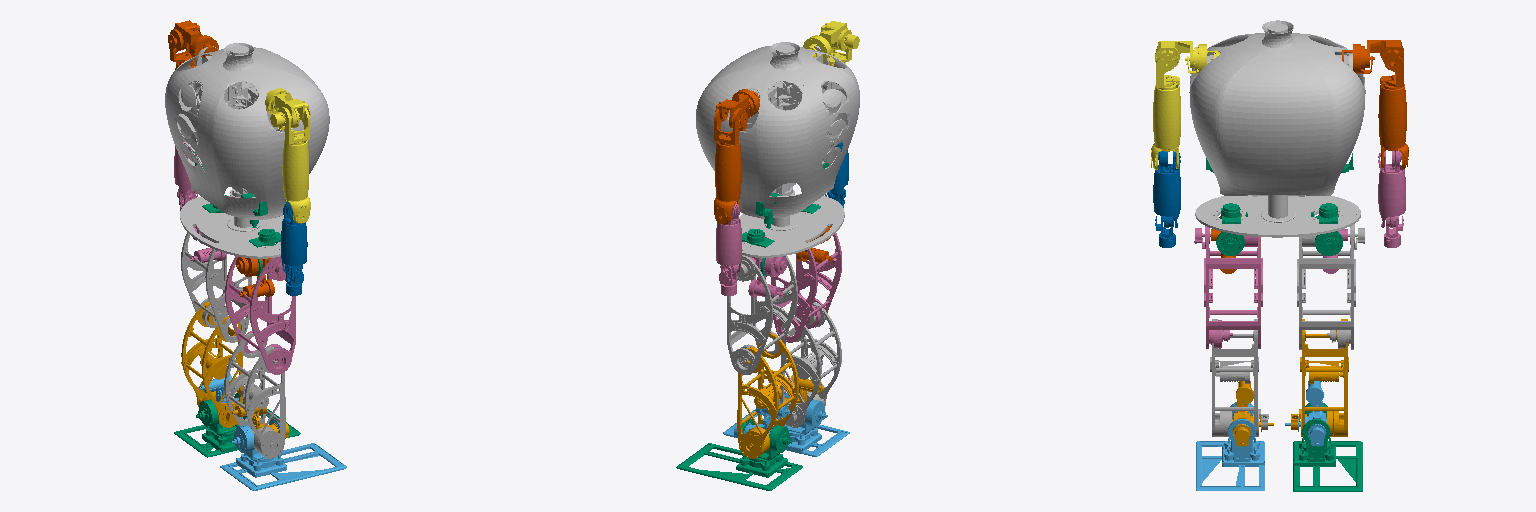
URDF robot description (teo):
<?xml version="1.0" ?>
<!-- =================================================================================== -->
<!-- |    This document was autogenerated by xacro from teo_humanoid_complete_vis.urdf.xacro | -->
<!-- |    EDITING THIS FILE BY HAND IS NOT RECOMMENDED                                 | -->
<!-- =================================================================================== -->
<robot name="teo" xmlns:xacro="http://ros.org/wiki/xacro">
  <!--
  ROS urdf definition of TEO humanoid robot
  
  Author: [author]
  RoboticsLab, University Carlos III de Madrid
  
  This file loads TEO model with a basic visualization.

  If you want to convert this xacro file into an urdf file:
  $ rosrun xacro xacro.py teo_humanoid.urdf.xacro > teo_humanoid.urdf
-->
  <link name="base_link"/>
  <link name="torso">
    <!--<inertial>
      <origin xyz="0 0 0" rpy="0 0 0"/>
      <mass value="1.0"/>
      <inertia ixx="0.001"  ixy="0.001"  ixzv"0" iyy="0.001" iyz="0.001" izz="0.001" />
    </inertial> -->
    <visual>
      <!-- one box -->
      <!--origin xyz="0 0 0.1" rpy="0 0 0"/-->
      <origin rpy="0 0 0" xyz="0 0 0.03"/>
      <geometry>
        <!--box size="0.1 0.45 0.292"/-->
        <mesh filename="package://teo_description/meshes/torso/chest_reduced2.dae"/>
      </geometry>
      <material name="LightGrey"/>
    </visual>
  </link>
  <link name="waist">
    <!--<inertial>
      <origin xyz="0 0 0" rpy="0 0 0"/>
      <mass value="1.0"/>
      <inertia ixx="0.001"  ixy="0.001"  ixzv"0" iyy="0.001" iyz="0.001" izz="0.001" />
    </inertial> -->
    <visual>
      <geometry>
        <mesh filename="package://teo_description/meshes/legs/r_axialhip.dae"/>
      </geometry>
      <material name="grey"/>
      <origin rpy="0 0 0" xyz="0 -0.146 0"/>
    </visual>
    <visual>
      <geometry>
        <mesh filename="package://teo_description/meshes/legs/l_axialhip.dae"/>
      </geometry>
      <material name="grey"/>
      <origin rpy="0 0 0" xyz="0 0.146 0"/>
    </visual>
  </link>
  <link name="waist_yaw_link">
    <!--<inertial>
      <origin xyz="0 0 0" rpy="0 0 0"/>
      <mass value="1.0"/>
      <inertia ixx="0.001"  ixy="0.001"  ixzv"0" iyy="0.001" iyz="0.001" izz="0.001" />
    </inertial> -->
    <visual>
      <origin rpy="0 0 0" xyz="0 0 0.025"/>
      <geometry>
        <!--sphere radius="1.0"/-->
        <cylinder length="0.06" radius="0.02"/>
      </geometry>
      <material name="LightGrey"/>
    </visual>
  </link>
  <link name="waist_pitch_link">
    <!--<inertial>
      <origin xyz="0 0 0" rpy="0 0 0"/>
      <mass value="1.0"/>
      <inertia ixx="0.001"  ixy="0.001"  ixzv"0" iyy="0.001" iyz="0.001" izz="0.001" />
    </inertial> -->
    <visual>
      <origin rpy="1.57079632679 0 0" xyz="0 0 0"/>
      <geometry>
        <!--sphere radius="1.0"/-->
        <cylinder length="0.06" radius="0.02"/>
      </geometry>
      <material name="LightGrey"/>
    </visual>
  </link>
  <link name="l_hip_yaw_link">
    <!--inertial>
        <origin xyz="0.0 ${reflect*0.0} 0.0" rpy="0 0 0"/>
        <mass value="1.0"/>
        <inertia ixx="0.001"  ixy="0.001"  ixzv"0" iyy="0.001" iyz="0.001" izz="0.001" />
      </inertial-->
  </link>
  <link name="l_hip_roll_link">
    <!--inertial>
        <origin xyz="0.0 ${reflect*0.0} 0.0" rpy="0 0 0"/>
        <mass value="1.0"/>
        <inertia ixx="0.001"  ixy="0.001"  ixzv"0" iyy="0.001" iyz="0.001" izz="0.001" />
      </inertial-->
    <visual>
      <geometry>
        <mesh filename="package://teo_description/meshes/legs/l_hip.dae"/>
      </geometry>
      <material name="grey"/>
      <origin rpy="0 0 0" xyz="0 0 0"/>
    </visual>
  </link>
  <link name="l_hip_pitch_link">
    <!--inertial>
        <origin xyz="0.0 ${reflect*0.0} 0.0" rpy="0 0 0"/>
        <mass value="1.0"/>
        <inertia ixx="0.001"  ixy="0.001"  ixzv"0" iyy="0.001" iyz="0.001" izz="0.001" />
      </inertial-->
    <visual>
      <geometry>
        <mesh filename="package://teo_description/meshes/legs/l_thigh.dae"/>
      </geometry>
      <material name="grey"/>
      <origin rpy="0 0 0" xyz="0.013 0 -0.33"/>
    </visual>
  </link>
  <link name="l_knee_pitch_link">
    <!--inertial>
        <origin xyz="0.0 ${reflect*0.0} 0.0" rpy="0 0 0"/>
        <mass value="1.0"/>
        <inertia ixx="0.001"  ixy="0.001"  ixzv"0" iyy="0.001" iyz="0.001" izz="0.001" />
      </inertial-->
    <visual>
      <geometry>
        <mesh filename="package://teo_description/meshes/legs/l_tibia.dae"/>
      </geometry>
      <material name="grey"/>
      <origin rpy="0 0 0" xyz="-0.013 -0.033 -0.3"/>
    </visual>
  </link>
  <link name="l_ankle_pitch_link">
    <!--inertial>
        <origin xyz="0.0 ${reflect*0.0} 0.0" rpy="0 0 0"/>
        <mass value="1.0"/>
        <inertia ixx="0.001"  ixy="0.001"  ixzv"0" iyy="0.001" iyz="0.001" izz="0.001" />
      </inertial-->
    <visual>
      <geometry>
        <mesh filename="package://teo_description/meshes/legs/l_ankle.dae"/>
      </geometry>
      <material name="grey"/>
      <origin rpy="0 0 0" xyz="0 0 0"/>
    </visual>
  </link>
  <link name="l_ankle_roll_link">
    <!--inertial>
        <origin xyz="0.0 ${reflect*0.0} 0.0" rpy="0 0 0"/>
        <mass value="1.0"/>
        <inertia ixx="0.001"  ixy="0.001"  ixzv"0" iyy="0.001" iyz="0.001" izz="0.001" />
      </inertial-->
    <visual>
      <geometry>
        <mesh filename="package://teo_description/meshes/legs/l_foot.dae"/>
      </geometry>
      <material name="grey"/>
      <origin rpy="0 0 0" xyz="0 0 0"/>
    </visual>
  </link>
  <link name="l_sole">
    <!--inertial>
        <origin xyz="0.0 ${reflect*0.0} 0.0" rpy="0 0 0"/>
        <mass value="1.0"/>
        <inertia ixx="0.001"  ixy="0.001"  ixzv"0" iyy="0.001" iyz="0.001" izz="0.001" />
      </inertial-->
  </link>
  <link name="r_hip_yaw_link">
    <!--inertial>
        <origin xyz="0.0 ${reflect*0.0} 0.0" rpy="0 0 0"/>
        <mass value="1.0"/>
        <inertia ixx="0.001"  ixy="0.001"  ixzv"0" iyy="0.001" iyz="0.001" izz="0.001" />
      </inertial-->
  </link>
  <link name="r_hip_roll_link">
    <!--inertial>
        <origin xyz="0.0 ${reflect*0.0} 0.0" rpy="0 0 0"/>
        <mass value="1.0"/>
        <inertia ixx="0.001"  ixy="0.001"  ixzv"0" iyy="0.001" iyz="0.001" izz="0.001" />
      </inertial-->
    <visual>
      <geometry>
        <mesh filename="package://teo_description/meshes/legs/r_hip.dae"/>
      </geometry>
      <material name="grey"/>
      <origin rpy="0 0 0" xyz="0 0 0"/>
    </visual>
  </link>
  <link name="r_hip_pitch_link">
    <!--inertial>
        <origin xyz="0.0 ${reflect*0.0} 0.0" rpy="0 0 0"/>
        <mass value="1.0"/>
        <inertia ixx="0.001"  ixy="0.001"  ixzv"0" iyy="0.001" iyz="0.001" izz="0.001" />
      </inertial-->
    <visual>
      <geometry>
        <mesh filename="package://teo_description/meshes/legs/r_thigh.dae"/>
      </geometry>
      <material name="grey"/>
      <origin rpy="0 0 0" xyz="0.013 0 -0.33"/>
    </visual>
  </link>
  <link name="r_knee_pitch_link">
    <!--inertial>
        <origin xyz="0.0 ${reflect*0.0} 0.0" rpy="0 0 0"/>
        <mass value="1.0"/>
        <inertia ixx="0.001"  ixy="0.001"  ixzv"0" iyy="0.001" iyz="0.001" izz="0.001" />
      </inertial-->
    <visual>
      <geometry>
        <mesh filename="package://teo_description/meshes/legs/r_tibia.dae"/>
      </geometry>
      <material name="grey"/>
      <origin rpy="0 0 0" xyz="-0.013 0.033 -0.3"/>
    </visual>
  </link>
  <link name="r_ankle_pitch_link">
    <!--inertial>
        <origin xyz="0.0 ${reflect*0.0} 0.0" rpy="0 0 0"/>
        <mass value="1.0"/>
        <inertia ixx="0.001"  ixy="0.001"  ixzv"0" iyy="0.001" iyz="0.001" izz="0.001" />
      </inertial-->
    <visual>
      <geometry>
        <mesh filename="package://teo_description/meshes/legs/r_ankle.dae"/>
      </geometry>
      <material name="grey"/>
      <origin rpy="0 0 0" xyz="0 0 0"/>
    </visual>
  </link>
  <link name="r_ankle_roll_link">
    <!--inertial>
        <origin xyz="0.0 ${reflect*0.0} 0.0" rpy="0 0 0"/>
        <mass value="1.0"/>
        <inertia ixx="0.001"  ixy="0.001"  ixzv"0" iyy="0.001" iyz="0.001" izz="0.001" />
      </inertial-->
    <visual>
      <geometry>
        <mesh filename="package://teo_description/meshes/legs/r_foot.dae"/>
      </geometry>
      <material name="grey"/>
      <origin rpy="0 0 0" xyz="0 0 0"/>
    </visual>
  </link>
  <link name="r_sole">
    <!--inertial>
        <origin xyz="0.0 ${reflect*0.0} 0.0" rpy="0 0 0"/>
        <mass value="1.0"/>
        <inertia ixx="0.001"  ixy="0.001"  ixzv"0" iyy="0.001" iyz="0.001" izz="0.001" />
      </inertial-->
  </link>
  <link name="l_shoulder_pitch_link">
    <!--inertial>
        <origin xyz="0.0 ${reflect*0.0} 0.0" rpy="0 0 0"/>
        <mass value="1.0"/>
        <inertia ixx="0.001"  ixy="0.001"  ixzv"0" iyy="0.001" iyz="0.001" izz="0.001" />
      </inertial-->
  </link>
  <link name="l_shoulder_roll_link">
    <!--inertial>
        <origin xyz="0.0 ${reflect*0.0} 0.0" rpy="0 0 0"/>
        <mass value="1.0"/>
        <inertia ixx="0.001"  ixy="0.001"  ixzv"0" iyy="0.001" iyz="0.001" izz="0.001" />
      </inertial-->
  </link>
  <link name="l_shoulder_yaw_link">
    <!--inertial>
        <origin xyz="0.0 ${reflect*0.0} 0.0" rpy="0 0 0"/>
        <mass value="1.0"/>
        <inertia ixx="0.001"  ixy="0.001"  ixzv"0" iyy="0.001" iyz="0.001" izz="0.001" />
      </inertial-->
    <visual>
      <geometry>
        <!--box size="0.08 0.08 ${arm_link2}"/-->
        <!--mesh filename="package://teo_description/meshes/legs/${side}_foot.dae"/-->
        <mesh filename="package://teo_description/meshes/arms/l_arm.dae"/>
      </geometry>
      <material name="grey"/>
      <!--origin rpy="0 0 0" xyz="0 0 -${arm_link2/2}"/-->
      <origin rpy="0 0 0" xyz="0 0 -0.1235"/>
    </visual>
  </link>
  <link name="l_elbow_pitch_link">
    <!--inertial>
        <origin xyz="0.0 ${reflect*0.0} 0.0" rpy="0 0 0"/>
        <mass value="1.0"/>
        <inertia ixx="0.001"  ixy="0.001"  ixzv"0" iyy="0.001" iyz="0.001" izz="0.001" />
      </inertial-->
    <visual>
      <geometry>
        <!--box size="0.06 0.06 ${arm_link3}"/-->
        <mesh filename="package://teo_description/meshes/arms/l_forearm.dae"/>
      </geometry>
      <material name="grey"/>
      <origin rpy="0 0 0" xyz="0 0 -0.105"/>
    </visual>
  </link>
  <link name="l_wrist_yaw_link">
    <!--inertial>
        <origin xyz="0.0 ${reflect*0.0} 0.0" rpy="0 0 0"/>
        <mass value="1.0"/>
        <inertia ixx="0.001"  ixy="0.001"  ixzv"0" iyy="0.001" iyz="0.001" izz="0.001" />
      </inertial-->
  </link>
  <link name="l_wrist_pitch_link">
    <!--inertial>
        <origin xyz="0.0 ${reflect*0.0} 0.0" rpy="0 0 0"/>
        <mass value="1.0"/>
        <inertia ixx="0.001"  ixy="0.001"  ixzv"0" iyy="0.001" iyz="0.001" izz="0.001" />
      </inertial-->
  </link>
  <link name="r_shoulder_pitch_link">
    <!--inertial>
        <origin xyz="0.0 ${reflect*0.0} 0.0" rpy="0 0 0"/>
        <mass value="1.0"/>
        <inertia ixx="0.001"  ixy="0.001"  ixzv"0" iyy="0.001" iyz="0.001" izz="0.001" />
      </inertial-->
  </link>
  <link name="r_shoulder_roll_link">
    <!--inertial>
        <origin xyz="0.0 ${reflect*0.0} 0.0" rpy="0 0 0"/>
        <mass value="1.0"/>
        <inertia ixx="0.001"  ixy="0.001"  ixzv"0" iyy="0.001" iyz="0.001" izz="0.001" />
      </inertial-->
  </link>
  <link name="r_shoulder_yaw_link">
    <!--inertial>
        <origin xyz="0.0 ${reflect*0.0} 0.0" rpy="0 0 0"/>
        <mass value="1.0"/>
        <inertia ixx="0.001"  ixy="0.001"  ixzv"0" iyy="0.001" iyz="0.001" izz="0.001" />
      </inertial-->
    <visual>
      <geometry>
        <!--box size="0.08 0.08 ${arm_link2}"/-->
        <!--mesh filename="package://teo_description/meshes/legs/${side}_foot.dae"/-->
        <mesh filename="package://teo_description/meshes/arms/r_arm.dae"/>
      </geometry>
      <material name="grey"/>
      <!--origin rpy="0 0 0" xyz="0 0 -${arm_link2/2}"/-->
      <origin rpy="0 0 0" xyz="0 0 -0.1235"/>
    </visual>
  </link>
  <link name="r_elbow_pitch_link">
    <!--inertial>
        <origin xyz="0.0 ${reflect*0.0} 0.0" rpy="0 0 0"/>
        <mass value="1.0"/>
        <inertia ixx="0.001"  ixy="0.001"  ixzv"0" iyy="0.001" iyz="0.001" izz="0.001" />
      </inertial-->
    <visual>
      <geometry>
        <!--box size="0.06 0.06 ${arm_link3}"/-->
        <mesh filename="package://teo_description/meshes/arms/r_forearm.dae"/>
      </geometry>
      <material name="grey"/>
      <origin rpy="0 0 0" xyz="0 0 -0.105"/>
    </visual>
  </link>
  <link name="r_wrist_yaw_link">
    <!--inertial>
        <origin xyz="0.0 ${reflect*0.0} 0.0" rpy="0 0 0"/>
        <mass value="1.0"/>
        <inertia ixx="0.001"  ixy="0.001"  ixzv"0" iyy="0.001" iyz="0.001" izz="0.001" />
      </inertial-->
  </link>
  <link name="r_wrist_pitch_link">
    <!--inertial>
        <origin xyz="0.0 ${reflect*0.0} 0.0" rpy="0 0 0"/>
        <mass value="1.0"/>
        <inertia ixx="0.001"  ixy="0.001"  ixzv"0" iyy="0.001" iyz="0.001" izz="0.001" />
      </inertial-->
  </link>
  <joint name="waist_yaw" type="revolute">
    <parent link="waist"/>
    <child link="waist_yaw_link"/>
    <origin rpy="0 0 0" xyz="0.0 0 0.287"/>
    <axis xyz="0 0 1"/>
    <limit effort="30.0" lower="-1.57079632679" upper="1.57079632679" velocity="3.0"/>
  </joint>
  <joint name="waist_pitch" type="revolute">
    <parent link="waist_yaw_link"/>
    <child link="waist_pitch_link"/>
    <origin rpy="0 0 0" xyz="-0.0 0 0"/>
    <axis xyz="0 1 0"/>
    <limit effort="30.0" lower="0.0" upper="0.785398163397" velocity="3.0"/>
  </joint>
  <joint name="torso_joint" type="fixed">
    <parent link="waist_pitch_link"/>
    <child link="torso"/>
    <origin rpy="0 0 0" xyz="0 0 0.06"/>
  </joint>
  <joint name="l_hip_yaw" type="revolute">
    <parent link="waist"/>
    <child link="l_hip_yaw_link"/>
    <origin rpy="0 0 0" xyz="0 0.146 0"/>
    <!--y=Leg_link1-->
    <axis xyz="0 0 1"/>
    <limit effort="30.0" lower="-0.52359878756" upper="0.418879020479" velocity="3.0"/>
  </joint>
  <joint name="l_hip_roll" type="revolute">
    <parent link="l_hip_yaw_link"/>
    <child link="l_hip_roll_link"/>
    <origin rpy="0 0 0" xyz="0 0 0"/>
    <axis xyz="1 0 0"/>
    <limit effort="30.0" lower="-2.09439510239" upper="0.785398163397" velocity="3.0"/>
  </joint>
  <joint name="l_hip_pitch" type="revolute">
    <parent link="l_hip_roll_link"/>
    <child link="l_hip_pitch_link"/>
    <origin rpy="0 0 0" xyz="0 0 0"/>
    <axis xyz="0 1 0"/>
    <limit effort="30.0" lower="-0.698131700798" upper="0.523598775598" velocity="3.0"/>
  </joint>
  <joint name="l_knee_pitch" type="revolute">
    <parent link="l_hip_pitch_link"/>
    <child link="l_knee_pitch_link"/>
    <origin rpy="0 0 0" xyz="0 0 -0.33"/>
    <axis xyz="0 1 0"/>
    <limit effort="30.0" lower="0.0" upper="1.57079632679" velocity="3.0"/>
  </joint>
  <joint name="l_ankle_pitch" type="revolute">
    <parent link="l_knee_pitch_link"/>
    <child link="l_ankle_pitch_link"/>
    <origin rpy="0 0 0" xyz="0 -0.033 -0.3"/>
    <axis xyz="0 1 0"/>
    <limit effort="30.0" lower="-1.4835298642" upper="1.4835298642" velocity="3.0"/>
  </joint>
  <joint name="l_ankle_roll" type="revolute">
    <parent link="l_ankle_pitch_link"/>
    <child link="l_ankle_roll_link"/>
    <origin rpy="0 0 0" xyz="0 0 0"/>
    <axis xyz="1 0 0"/>
    <limit effort="30.0" lower="-0.349065850399" upper="0.349065850399" velocity="3.0"/>
  </joint>
  <joint name="l_sole_joint" type="fixed">
    <parent link="l_ankle_roll_link"/>
    <child link="l_sole"/>
    <origin rpy="0 0 0" xyz="0 0 -0.124"/>
  </joint>
  <joint name="r_hip_yaw" type="revolute">
    <parent link="waist"/>
    <child link="r_hip_yaw_link"/>
    <origin rpy="0 0 0" xyz="0 -0.146 0"/>
    <!--y=Leg_link1-->
    <axis xyz="0 0 1"/>
    <limit effort="30.0" lower="-0.52359878756" upper="0.418879020479" velocity="3.0"/>
  </joint>
  <joint name="r_hip_roll" type="revolute">
    <parent link="r_hip_yaw_link"/>
    <child link="r_hip_roll_link"/>
    <origin rpy="0 0 0" xyz="0 0 0"/>
    <axis xyz="1 0 0"/>
    <limit effort="30.0" lower="-2.09439510239" upper="0.785398163397" velocity="3.0"/>
  </joint>
  <joint name="r_hip_pitch" type="revolute">
    <parent link="r_hip_roll_link"/>
    <child link="r_hip_pitch_link"/>
    <origin rpy="0 0 0" xyz="0 0 0"/>
    <axis xyz="0 1 0"/>
    <limit effort="30.0" lower="-0.698131700798" upper="0.523598775598" velocity="3.0"/>
  </joint>
  <joint name="r_knee_pitch" type="revolute">
    <parent link="r_hip_pitch_link"/>
    <child link="r_knee_pitch_link"/>
    <origin rpy="0 0 0" xyz="0 0 -0.33"/>
    <axis xyz="0 1 0"/>
    <limit effort="30.0" lower="0.0" upper="1.57079632679" velocity="3.0"/>
  </joint>
  <joint name="r_ankle_pitch" type="revolute">
    <parent link="r_knee_pitch_link"/>
    <child link="r_ankle_pitch_link"/>
    <origin rpy="0 0 0" xyz="0 0.033 -0.3"/>
    <axis xyz="0 1 0"/>
    <limit effort="30.0" lower="-1.4835298642" upper="1.4835298642" velocity="3.0"/>
  </joint>
  <joint name="r_ankle_roll" type="revolute">
    <parent link="r_ankle_pitch_link"/>
    <child link="r_ankle_roll_link"/>
    <origin rpy="0 0 0" xyz="0 0 0"/>
    <axis xyz="1 0 0"/>
    <limit effort="30.0" lower="-0.349065850399" upper="0.349065850399" velocity="3.0"/>
  </joint>
  <joint name="r_sole_joint" type="fixed">
    <parent link="r_ankle_roll_link"/>
    <child link="r_sole"/>
    <origin rpy="0 0 0" xyz="0 0 -0.124"/>
  </joint>
  <joint name="l_shoulder_pitch" type="revolute">
    <parent link="torso"/>
    <child link="l_shoulder_pitch_link"/>
    <origin rpy="0 0 0" xyz="-0.0 0.34 0.245"/>
    <axis xyz="0 1 0"/>
    <limit effort="30.0" lower="-3.14159265359" upper="3.14159265359" velocity="3.0"/>
  </joint>
  <joint name="l_shoulder_roll" type="revolute">
    <parent link="l_shoulder_pitch_link"/>
    <child link="l_shoulder_roll_link"/>
    <origin rpy="0 0 0" xyz="0 0 0"/>
    <axis xyz="1 0 0"/>
    <limit effort="30.0" lower="-0.785398163397" upper="2.09439510239" velocity="3.0"/>
  </joint>
  <joint name="l_shoulder_yaw" type="revolute">
    <parent link="l_shoulder_roll_link"/>
    <child link="l_shoulder_yaw_link"/>
    <origin rpy="0 0 0" xyz="0 0 0"/>
    <axis xyz="0 0 1"/>
    <limit effort="30.0" lower="-1.0471975512" upper="1.0471975512" velocity="3.0"/>
  </joint>
  <joint name="l_elbow_pitch" type="revolute">
    <parent link="l_shoulder_yaw_link"/>
    <child link="l_elbow_pitch_link"/>
    <origin rpy="0 0 0" xyz="0 0 -0.337"/>
    <axis xyz="0 1 0"/>
    <limit effort="30.0" lower="-1.74532925199" upper="1.74532925199" velocity="3.0"/>
  </joint>
  <joint name="l_wrist_yaw" type="revolute">
    <parent link="l_elbow_pitch_link"/>
    <child link="l_wrist_yaw_link"/>
    <origin rpy="0 0 0" xyz="0 0 -0.21"/>
    <axis xyz="0 0 1"/>
    <limit effort="30.0" lower="-0.698131700798" upper="0.959931088597" velocity="3.0"/>
  </joint>
  <joint name="l_wrist_pitch" type="revolute">
    <parent link="l_wrist_yaw_link"/>
    <child link="l_wrist_pitch_link"/>
    <origin rpy="0 0 0" xyz="0 0 0"/>
    <axis xyz="0 1 0"/>
    <limit effort="30.0" lower="-1.83259571459" upper="1.83259571459" velocity="3.0"/>
  </joint>
  <joint name="r_shoulder_pitch" type="revolute">
    <parent link="torso"/>
    <child link="r_shoulder_pitch_link"/>
    <origin rpy="0 0 0" xyz="-0.0 -0.34 0.245"/>
    <axis xyz="0 1 0"/>
    <limit effort="30.0" lower="-3.14159265359" upper="3.14159265359" velocity="3.0"/>
  </joint>
  <joint name="r_shoulder_roll" type="revolute">
    <parent link="r_shoulder_pitch_link"/>
    <child link="r_shoulder_roll_link"/>
    <origin rpy="0 0 0" xyz="0 0 0"/>
    <axis xyz="1 0 0"/>
    <limit effort="30.0" lower="-0.785398163397" upper="2.09439510239" velocity="3.0"/>
  </joint>
  <joint name="r_shoulder_yaw" type="revolute">
    <parent link="r_shoulder_roll_link"/>
    <child link="r_shoulder_yaw_link"/>
    <origin rpy="0 0 0" xyz="0 0 0"/>
    <axis xyz="0 0 1"/>
    <limit effort="30.0" lower="-1.0471975512" upper="1.0471975512" velocity="3.0"/>
  </joint>
  <joint name="r_elbow_pitch" type="revolute">
    <parent link="r_shoulder_yaw_link"/>
    <child link="r_elbow_pitch_link"/>
    <origin rpy="0 0 0" xyz="0 0 -0.337"/>
    <axis xyz="0 1 0"/>
    <limit effort="30.0" lower="-1.74532925199" upper="1.74532925199" velocity="3.0"/>
  </joint>
  <joint name="r_wrist_yaw" type="revolute">
    <parent link="r_elbow_pitch_link"/>
    <child link="r_wrist_yaw_link"/>
    <origin rpy="0 0 0" xyz="0 0 -0.21"/>
    <axis xyz="0 0 1"/>
    <limit effort="30.0" lower="-0.698131700798" upper="0.959931088597" velocity="3.0"/>
  </joint>
  <joint name="r_wrist_pitch" type="revolute">
    <parent link="r_wrist_yaw_link"/>
    <child link="r_wrist_pitch_link"/>
    <origin rpy="0 0 0" xyz="0 0 0"/>
    <axis xyz="0 1 0"/>
    <limit effort="30.0" lower="-1.83259571459" upper="1.83259571459" velocity="3.0"/>
  </joint>
  <joint name="base_joint" type="fixed">
    <child link="waist"/>
    <parent link="base_link"/>
    <origin rpy="0 0 0" xyz="0 0 0"/>
  </joint>
  <!--xacro:include filename="$(find teo_description)/urdf/simple_visual.xacro" /-->
  <material name="LightGrey">
    <color rgba="0.8 0.8 0.8 1.0"/>
  </material>
</robot>

--- What the picture shows (computed from the rendered views, not written in the file) ---
3 views of the same robot in one strip: view 1: azimuth 30°, elevation 25°; view 2: azimuth 150°, elevation 25°; view 3: azimuth 270°, elevation 25° (orthographic).
Robot: teo — 31 links, 30 joints (26 revolute, 4 fixed); root link base_link; default pose: every joint at zero.
Visible links, largest first — view 1: torso, r_hip_pitch_link, r_shoulder_yaw_link, r_knee_pitch_link, r_ankle_roll_link, l_knee_pitch_link, l_hip_pitch_link, l_ankle_roll_link, r_elbow_pitch_link, l_shoulder_yaw_link, waist, r_hip_roll_link (+1 smaller); view 2: torso, l_hip_pitch_link, l_knee_pitch_link, l_shoulder_yaw_link, r_knee_pitch_link, l_ankle_roll_link, r_hip_pitch_link, r_ankle_roll_link, l_elbow_pitch_link, r_shoulder_yaw_link, waist, l_hip_roll_link (+1 smaller); view 3: torso, l_shoulder_yaw_link, r_shoulder_yaw_link, l_hip_pitch_link, r_hip_pitch_link, l_ankle_roll_link, r_ankle_roll_link, l_knee_pitch_link, r_knee_pitch_link, l_elbow_pitch_link, r_elbow_pitch_link, waist (+2 smaller).
Boxes of the visible links, box(x1,y1,x2,y2) form: torso: box(165, 43, 329, 258); r_hip_pitch_link: box(225, 256, 295, 374); r_shoulder_yaw_link: box(265, 88, 310, 223); r_knee_pitch_link: box(224, 333, 285, 458); r_ankle_roll_link: box(220, 419, 346, 490); l_knee_pitch_link: box(181, 302, 242, 427); l_hip_pitch_link: box(181, 232, 251, 342); l_ankle_roll_link: box(174, 393, 300, 457); r_elbow_pitch_link: box(281, 201, 307, 295); l_shoulder_yaw_link: box(168, 20, 218, 69); waist: box(193, 151, 280, 275); r_hip_roll_link: box(236, 257, 274, 297); torso: box(696, 42, 859, 257); l_hip_pitch_link: box(727, 255, 797, 374); l_knee_pitch_link: box(737, 333, 798, 458); l_shoulder_yaw_link: box(714, 89, 759, 224); r_knee_pitch_link: box(780, 302, 841, 427); l_ankle_roll_link: box(676, 419, 802, 490); r_hip_pitch_link: box(771, 233, 841, 342); r_ankle_roll_link: box(723, 393, 849, 456); l_elbow_pitch_link: box(716, 202, 741, 295); r_shoulder_yaw_link: box(803, 21, 859, 66); waist: box(742, 163, 828, 276); l_hip_roll_link: box(748, 256, 786, 298); torso: box(1189, 20, 1365, 237); l_shoulder_yaw_link: box(1342, 40, 1408, 168); r_shoulder_yaw_link: box(1151, 41, 1219, 169); l_hip_pitch_link: box(1297, 224, 1364, 349); r_hip_pitch_link: box(1194, 226, 1262, 348); l_ankle_roll_link: box(1293, 403, 1362, 491); r_ankle_roll_link: box(1196, 402, 1264, 490); l_knee_pitch_link: box(1291, 319, 1348, 436); r_knee_pitch_link: box(1210, 319, 1268, 436); l_elbow_pitch_link: box(1378, 150, 1405, 247); r_elbow_pitch_link: box(1153, 151, 1180, 247); waist: box(1206, 153, 1353, 255).
Bounding box of the posed robot: 0.4528 × 0.7771 × 1.43 m (x, y, z).
Meshes: 17 distinct files referenced, 17 mesh visuals loaded (17 Collada DAE).
